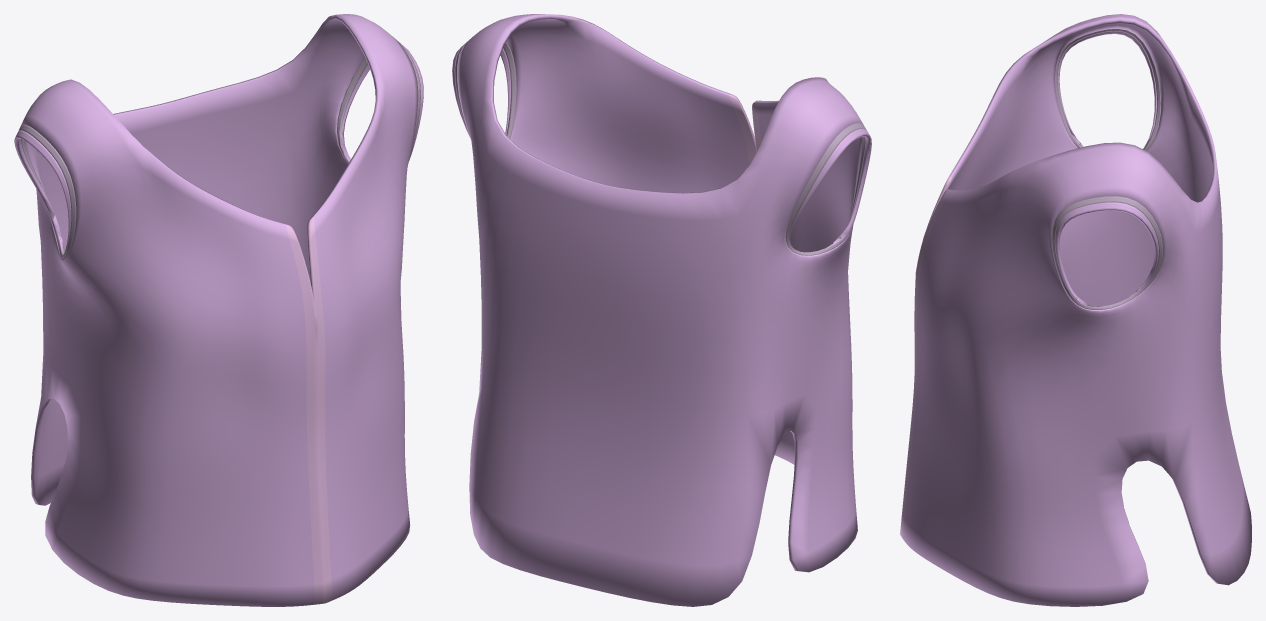
Rendered from women-shirt.gltf.
3 views of the same model, side by side, from view 1: azimuth 30°, elevation 25°; view 2: azimuth 150°, elevation 25°; view 3: azimuth 270°, elevation 25° (orthographic). The views are drawn at different scales.
Parts seen in each view (by area): view 1: shirt arms; view 2: shirt arms; view 3: shirt arms.
Part boxes in pixels (left/top/right/bottom): shirt arms: left=14, top=14, right=423, bottom=606; shirt arms: left=452, top=14, right=871, bottom=606; shirt arms: left=900, top=14, right=1251, bottom=606.
Size of the model in its own units: 2.98 by 3.52 by 2.47.
